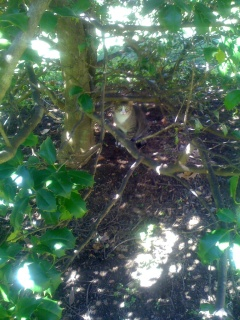Cat: (109, 100, 149, 146)
